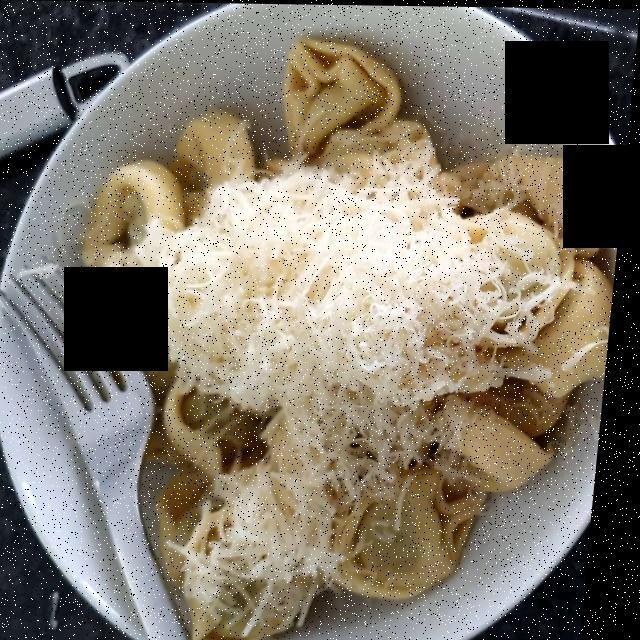cheese: (138, 146, 594, 633)
pasta: (87, 42, 601, 631)
